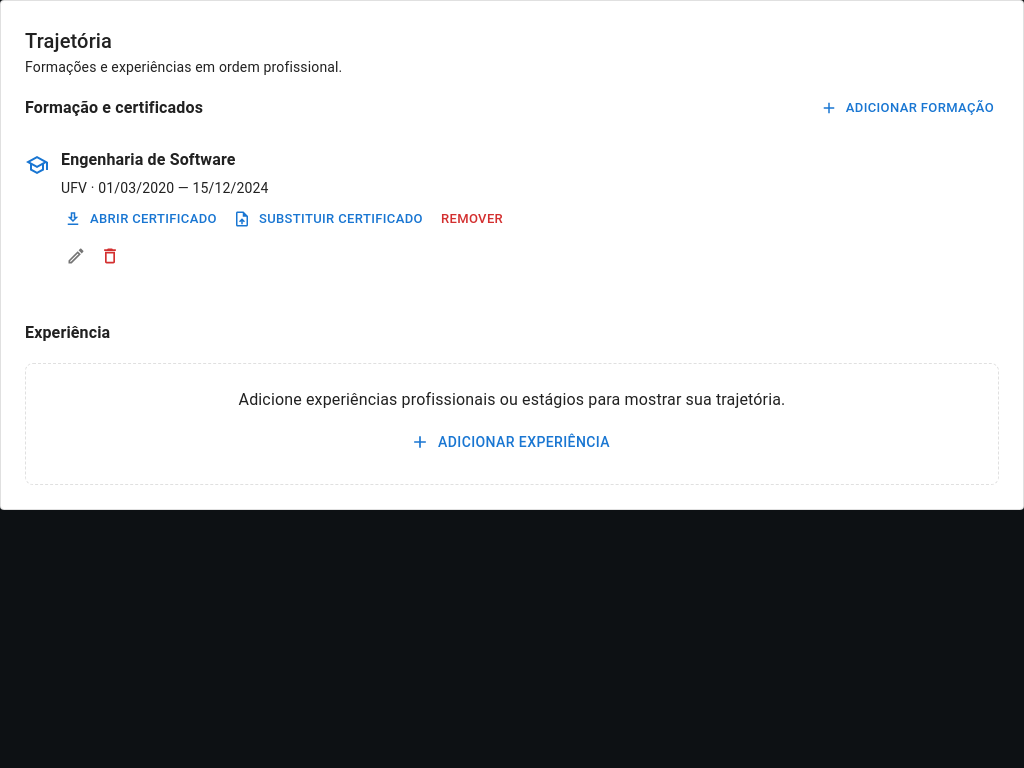
Test case: TrajetoriaSection certificate › falls back to the generic open message for an opaque failure
Expected: the heading "Formação e certificados" is shown, [25,94,203,122]
Click the button "Abrir certificado": [142, 219] box [61,204,222,235]
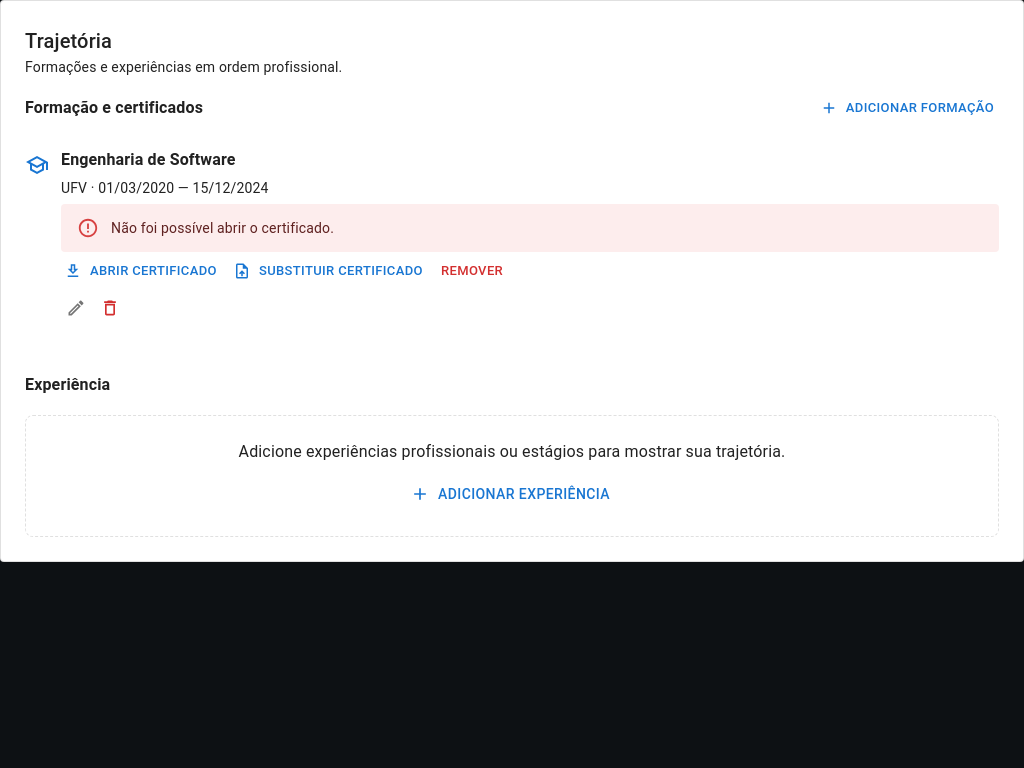
Result: the message reads "Não foi possível abrir o certificado." at [111,220,334,236]
